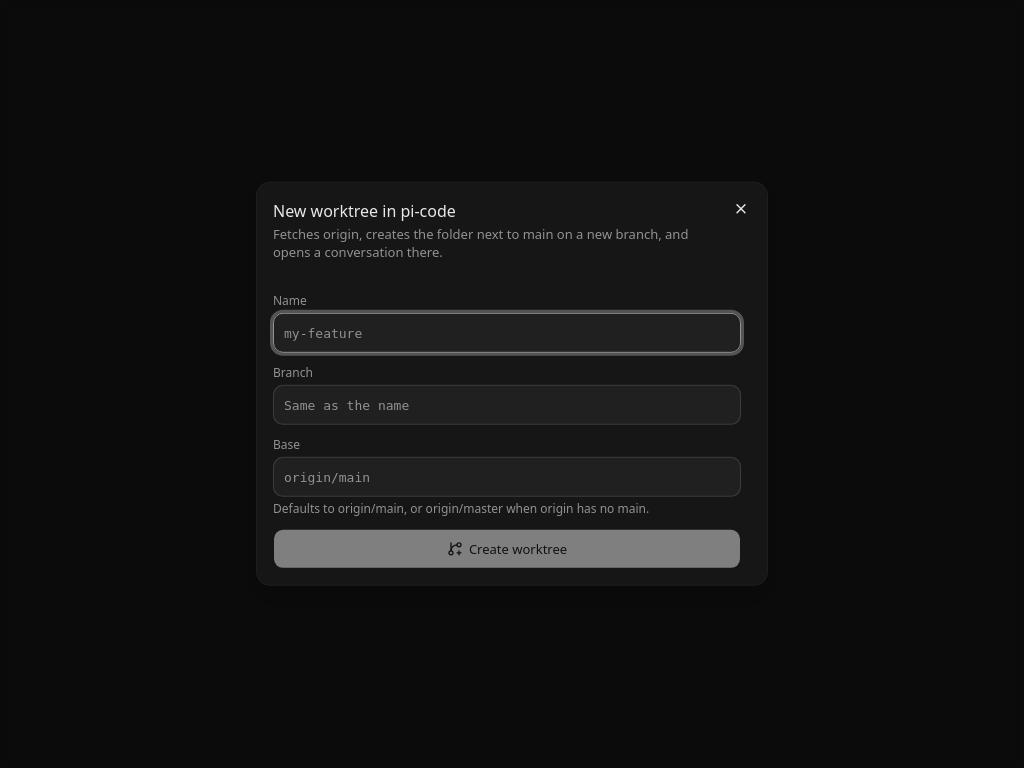
Scenario: NewWorktreeSheet › checks the name before sending: one segment, not starting with a dot
This screenshot has width=1024, height=768.
Expected: the button "Create worktree" is disabled, [273, 529, 741, 569]
Step 1. Type "a/b" into the field labelled "Name" → (507, 333), box [273, 313, 741, 353]
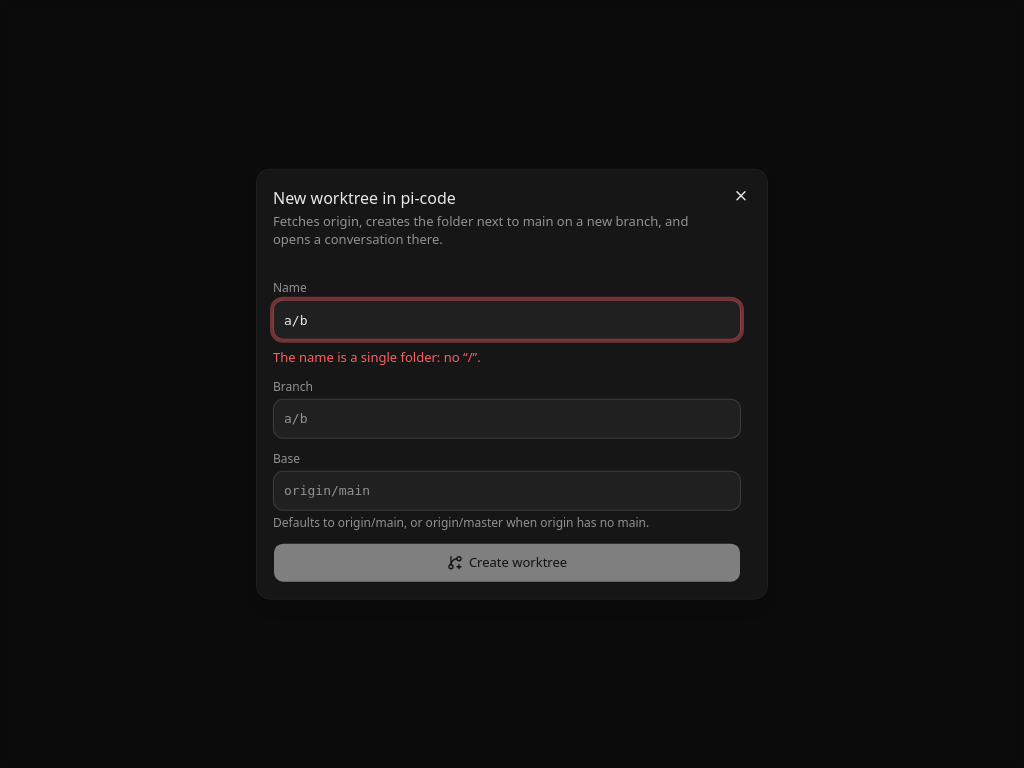
Expected: the button "Create worktree" is disabled, [273, 542, 741, 582]
Result: the message shows "no “/”" at [273, 348, 481, 366]
Step 2. Clear the field labelled "Name" → (507, 320), box [273, 300, 741, 340]
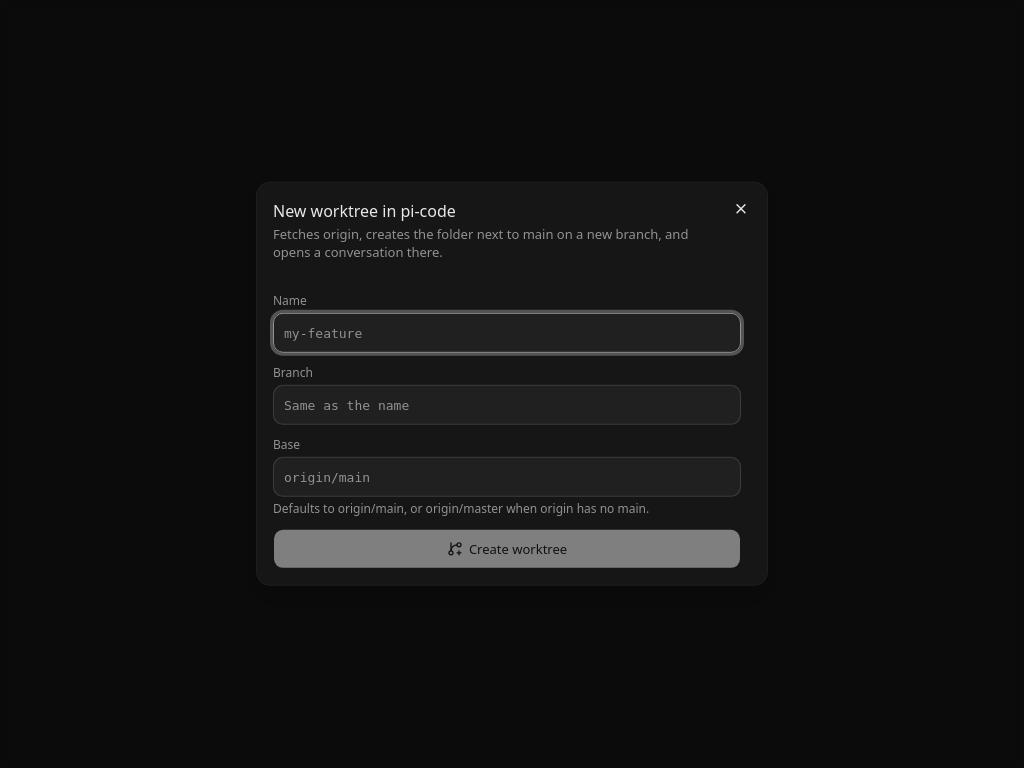
Step 3. Type ".git" into the field labelled "Name" → (507, 333), box [273, 313, 741, 353]
Then press Enter
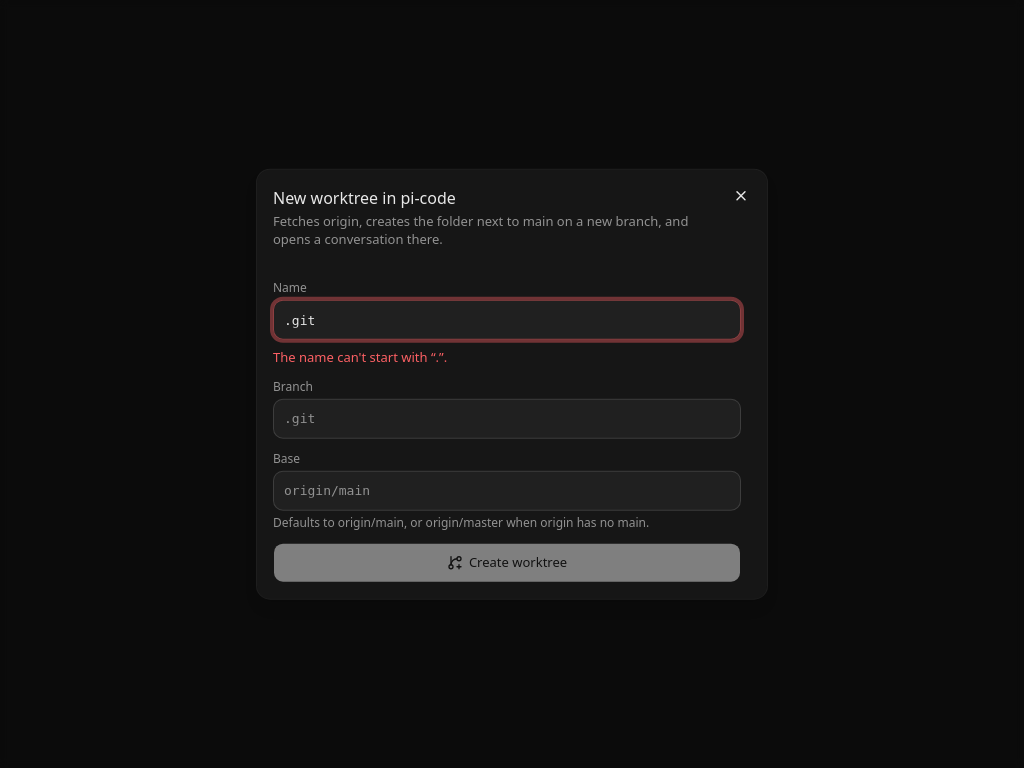
Expected: the button "Create worktree" is disabled, [273, 542, 741, 582]
Result: the message shows "can't start with “.”" at [273, 348, 447, 366]
